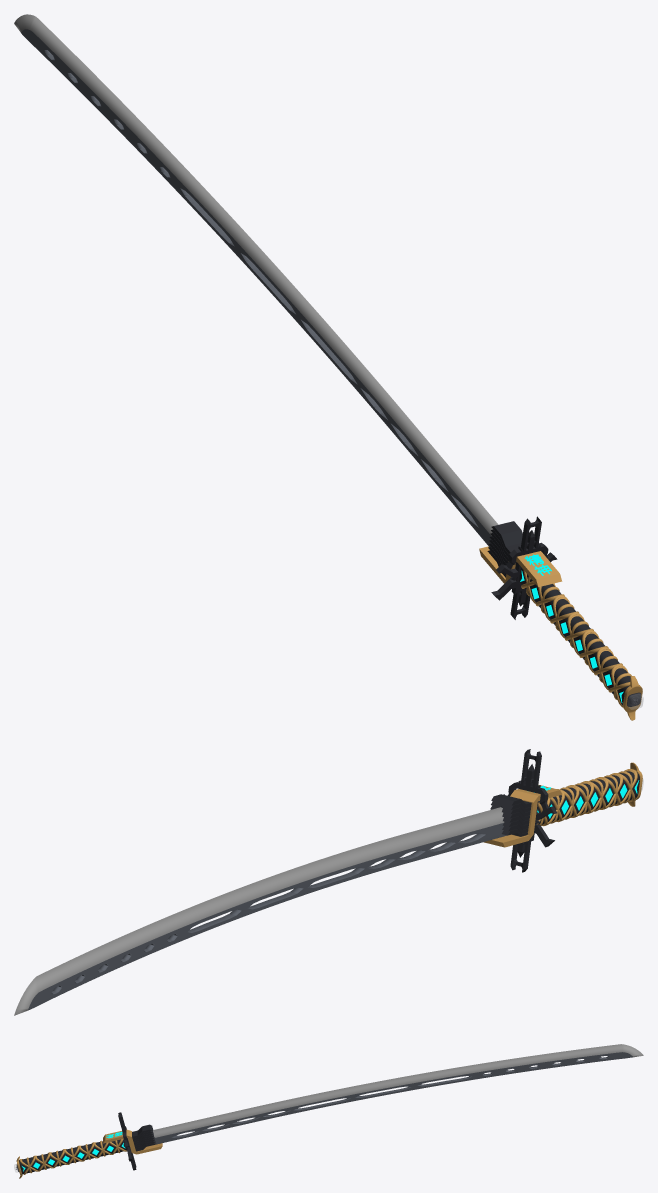
Rendered from Cyb Kata 02 SF.gltf.
3 views of the same model, one above another, from view 1: azimuth 30°, elevation 25°; view 2: azimuth 150°, elevation 25°; view 3: azimuth 270°, elevation 25° (orthographic). The views are drawn at different scales.
Parts seen in each view (by area): view 1: Cube.010, Cube.012, Cube.003, Cube, Cube.011, Cube.008, Cube.009; view 2: Cube.010, Cube.012, Cube.003, Cube.011, Cube, Cube.009, Cube.008, Cube.005; view 3: Cube.010, Cube.012, Cube, Cube.003, Cube.009, Cube.008, Cube.011, Cube.005.
Part boxes in pixels (x1=…): Cube.010: x1=14, y1=14, x2=498, y2=535; Cube.012: x1=21, y1=29, x2=491, y2=546; Cube.003: x1=521, y1=570, x2=631, y2=707; Cube: x1=519, y1=567, x2=630, y2=705; Cube.011: x1=491, y1=516, x2=557, y2=619; Cube.008: x1=479, y1=546, x2=562, y2=587; Cube.009: x1=487, y1=521, x2=522, y2=577; Cube.010: x1=14, y1=807, x2=504, y2=1015; Cube.012: x1=28, y1=823, x2=506, y2=1009; Cube.003: x1=537, y1=769, x2=637, y2=826; Cube.011: x1=503, y1=749, x2=557, y2=872; Cube: x1=537, y1=771, x2=639, y2=824; Cube.009: x1=490, y1=794, x2=531, y2=836; Cube.008: x1=483, y1=784, x2=561, y2=847; Cube.005: x1=537, y1=780, x2=639, y2=818; Cube.010: x1=153, y1=1044, x2=643, y2=1137; Cube.012: x1=154, y1=1052, x2=632, y2=1144; Cube: x1=19, y1=1139, x2=130, y2=1174; Cube.003: x1=19, y1=1139, x2=126, y2=1174; Cube.009: x1=132, y1=1124, x2=156, y2=1151; Cube.008: x1=103, y1=1129, x2=162, y2=1154; Cube.011: x1=118, y1=1112, x2=136, y2=1170; Cube.005: x1=22, y1=1143, x2=125, y2=1171.
Bounding box in the file's own units: 5.12 × 21.32 × 90.44.
